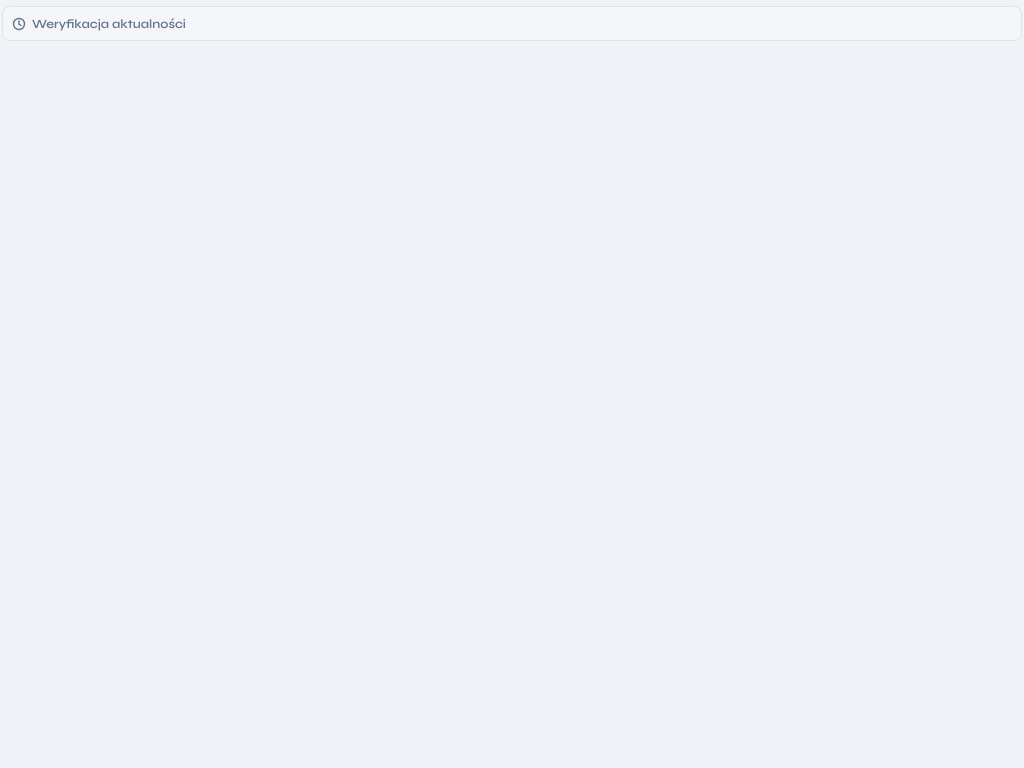
Test: ActualityReviewPanel › kliknięcie "Potwierdź aktualność" NIE woła od razu API — najpierw pokazuje modal
Click the button "Weryfikacja aktualności" at (109, 24), box [2, 6, 1022, 41]
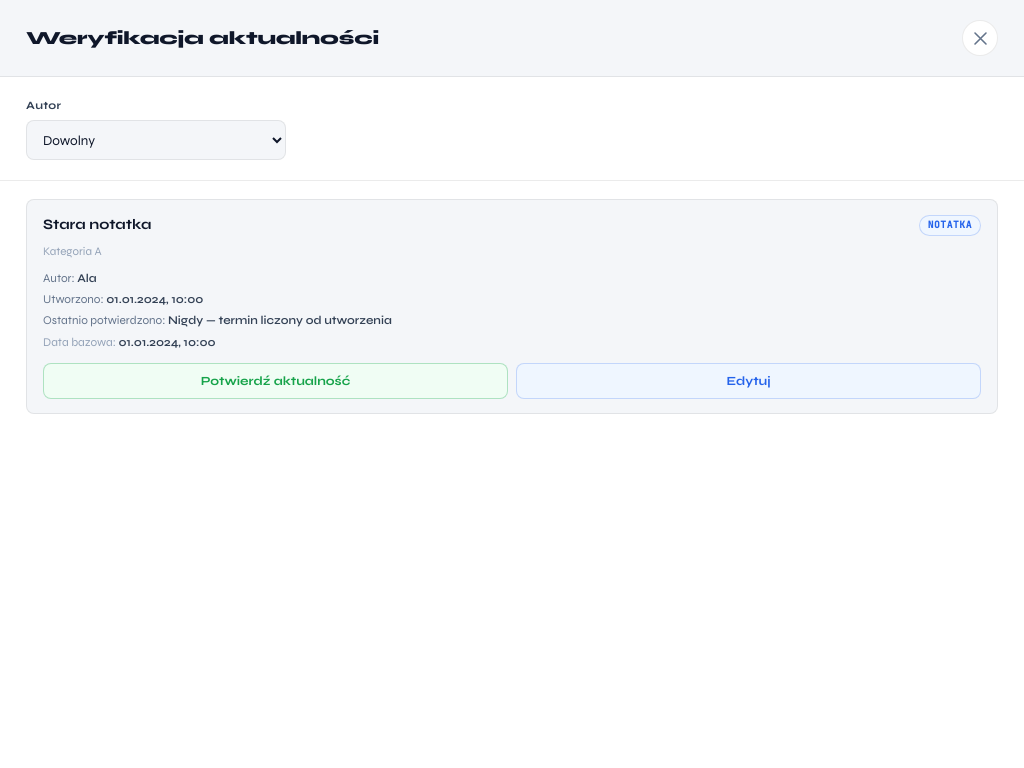
Check: the dialog "Weryfikacja aktualności" is shown
Check: the text "Stara notatka" is shown, box [43, 216, 151, 233]
Click the button "Potwierdź aktualność" at (276, 381), box [43, 363, 508, 399]
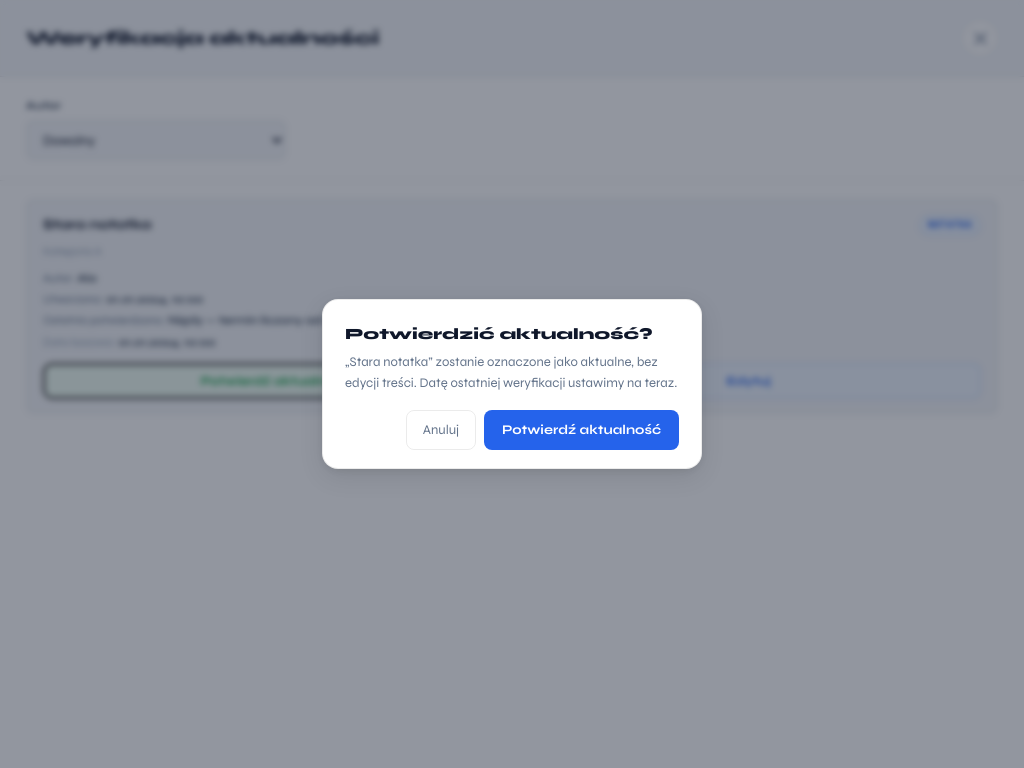
Check: the heading "Potwierdzić aktualność?" is shown, box [345, 322, 679, 346]
Check: the text "bez edycji treści" is shown, box [345, 354, 677, 391]
